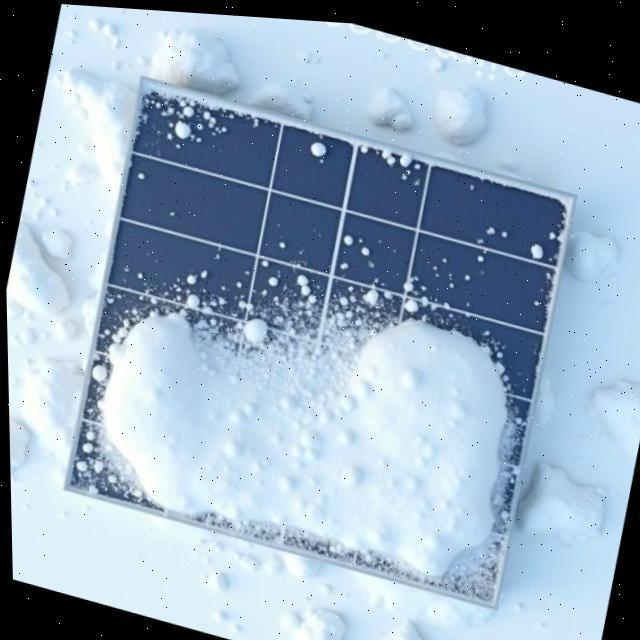Anomaly Solar Panel: (64, 82, 572, 598)
Snow: (64, 177, 551, 601), (133, 85, 262, 172), (355, 136, 416, 165), (527, 232, 544, 255), (308, 139, 326, 153)
